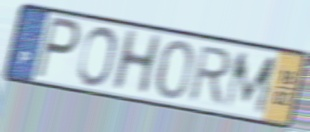H: (107, 27, 165, 96)
M: (221, 51, 279, 117)
O: (75, 25, 119, 89), (155, 38, 195, 101)
P: (33, 14, 83, 83)
R: (185, 44, 235, 109)
